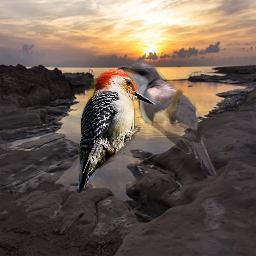Cuckoo: (115, 59, 216, 180)
Woodpecker: (78, 69, 158, 193)
